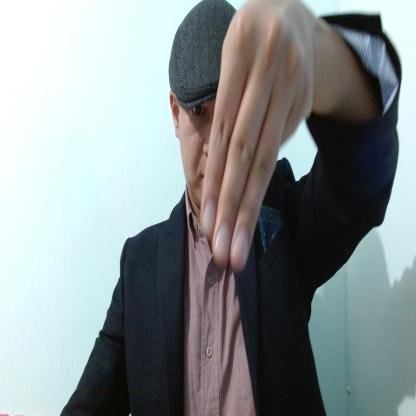M: (201, 0, 315, 272)
